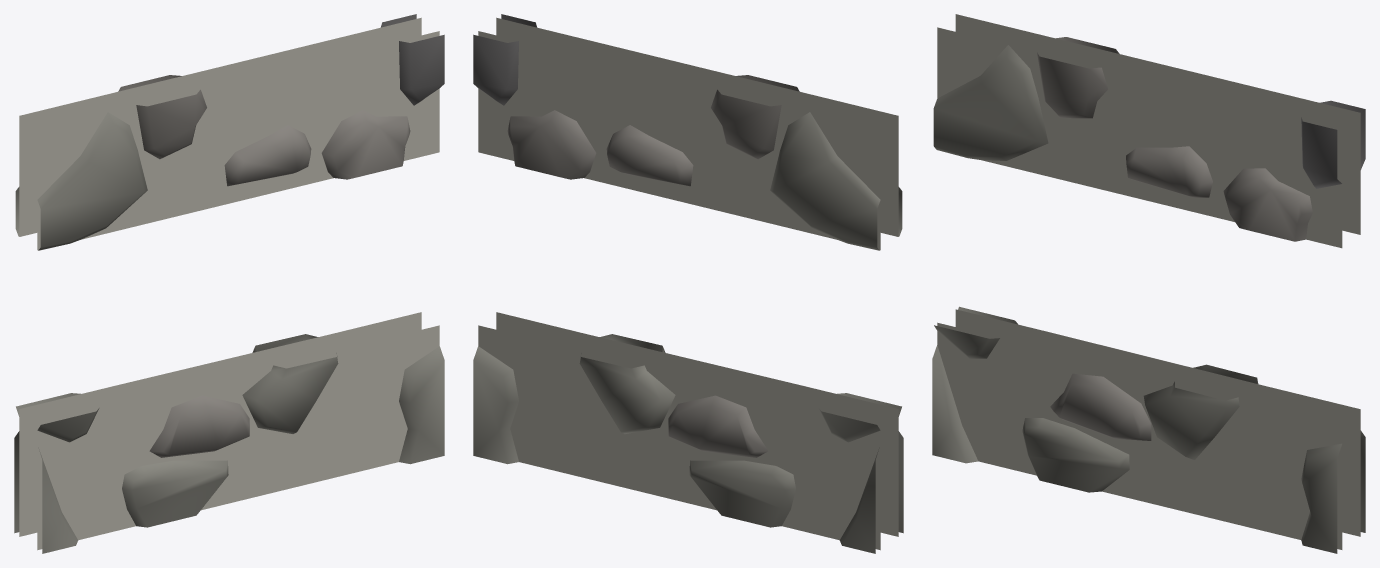
File: rpgpp_ag_wall_04_3x3_window_02b.fbx
3 renders of one model, left to right at view 1: azimuth 30°, elevation 25°; view 2: azimuth 150°, elevation 25°; view 3: azimuth 330°, elevation 25°, orthographic.
Visible parts, largest first — view 1: rpgpp_ag_wall_04_3x3_window_02b; view 2: rpgpp_ag_wall_04_3x3_window_02b; view 3: rpgpp_ag_wall_04_3x3_window_02b.
Boxes of the visible parts, bbox=[...] form: rpgpp_ag_wall_04_3x3_window_02b: bbox=[14, 14, 444, 553]; rpgpp_ag_wall_04_3x3_window_02b: bbox=[473, 14, 903, 553]; rpgpp_ag_wall_04_3x3_window_02b: bbox=[932, 14, 1365, 553].
Size of the model in its own units: 3 by 3 by 0.404.
